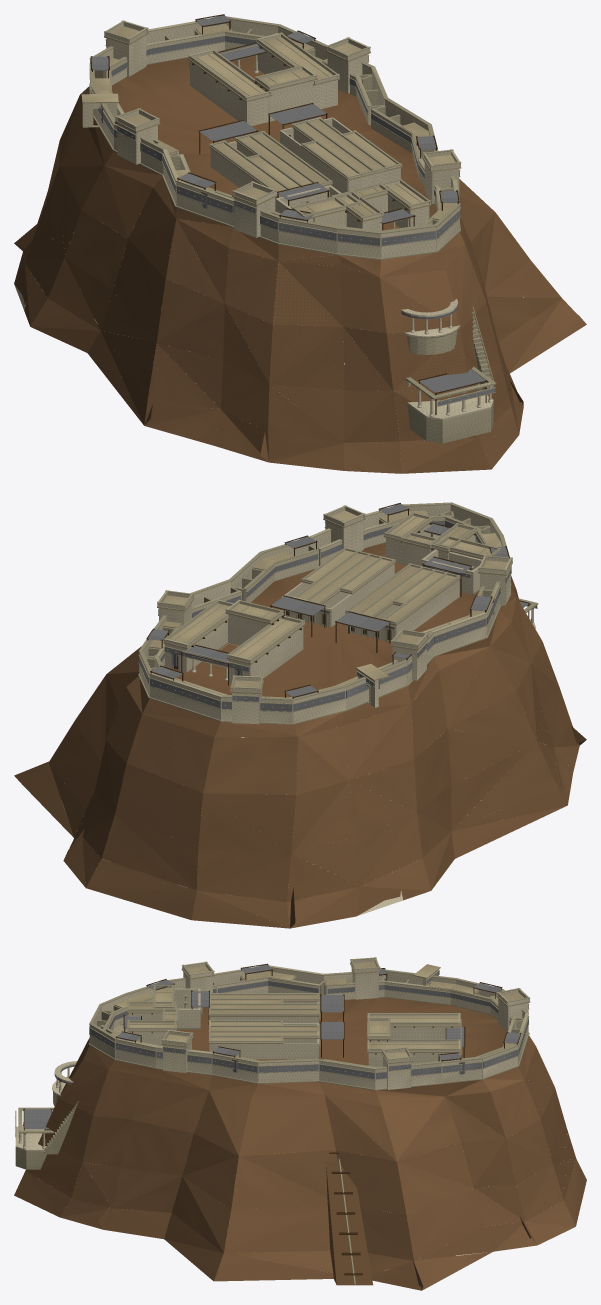
The model's file is masada.glb.
3 views of the same model, one above another, from view 1: azimuth 30°, elevation 25°; view 2: azimuth 150°, elevation 25°; view 3: azimuth 270°, elevation 25° (orthographic). The views are drawn at different scales.
Visible parts, largest first — view 1: LOD0, LOD0.001, LOD0.002; view 2: LOD0, LOD0.001, LOD0.002; view 3: LOD0, LOD0.001, LOD0.002.
Part boxes in pixels (x1,y1,x2,y2): LOD0: (14,14,586,473); LOD0.001: (188,32,402,226); LOD0.002: (315,83,496,443); LOD0: (14,502,586,928); LOD0.001: (163,535,501,685); LOD0.002: (50,512,538,798); LOD0: (14,957,586,1290); LOD0.001: (153,984,465,1066); LOD0.002: (15,1001,451,1285).
Size of what is drawn, in the model's own units: 8.48 by 3.89 by 11.24.
Materials: 2 (2 with a texture image).
